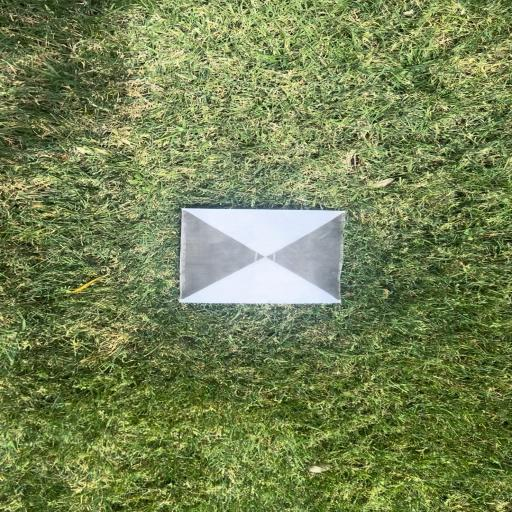target: (182, 208, 342, 303)
